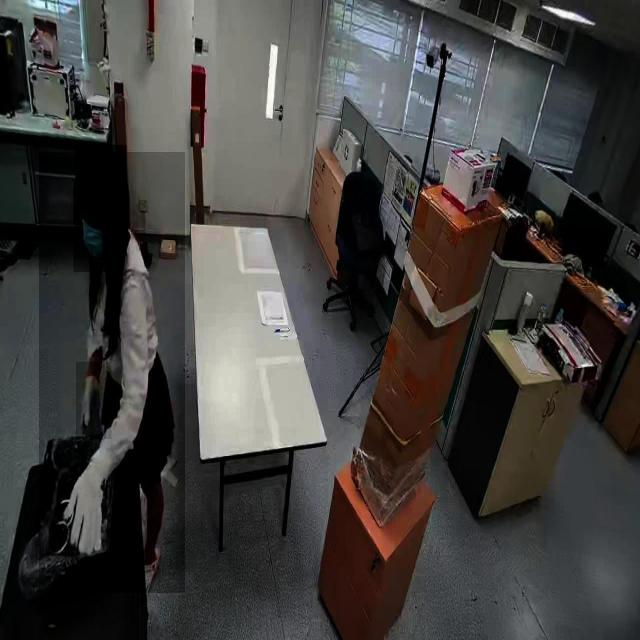face_mask: (74, 187, 120, 272)
hand_glove: (62, 446, 119, 558), (76, 362, 112, 440)
head_nohelmet: (75, 145, 127, 187)
person: (39, 152, 185, 594)
